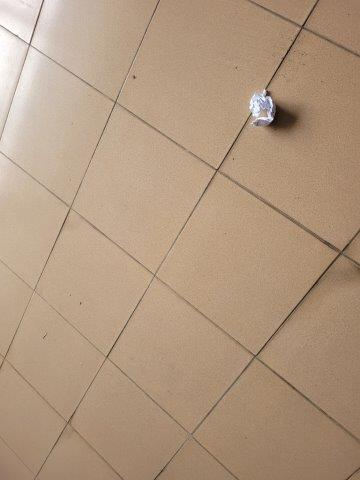kertas: (253, 90, 275, 125)
